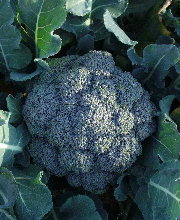broccoli: (19, 49, 158, 196)
